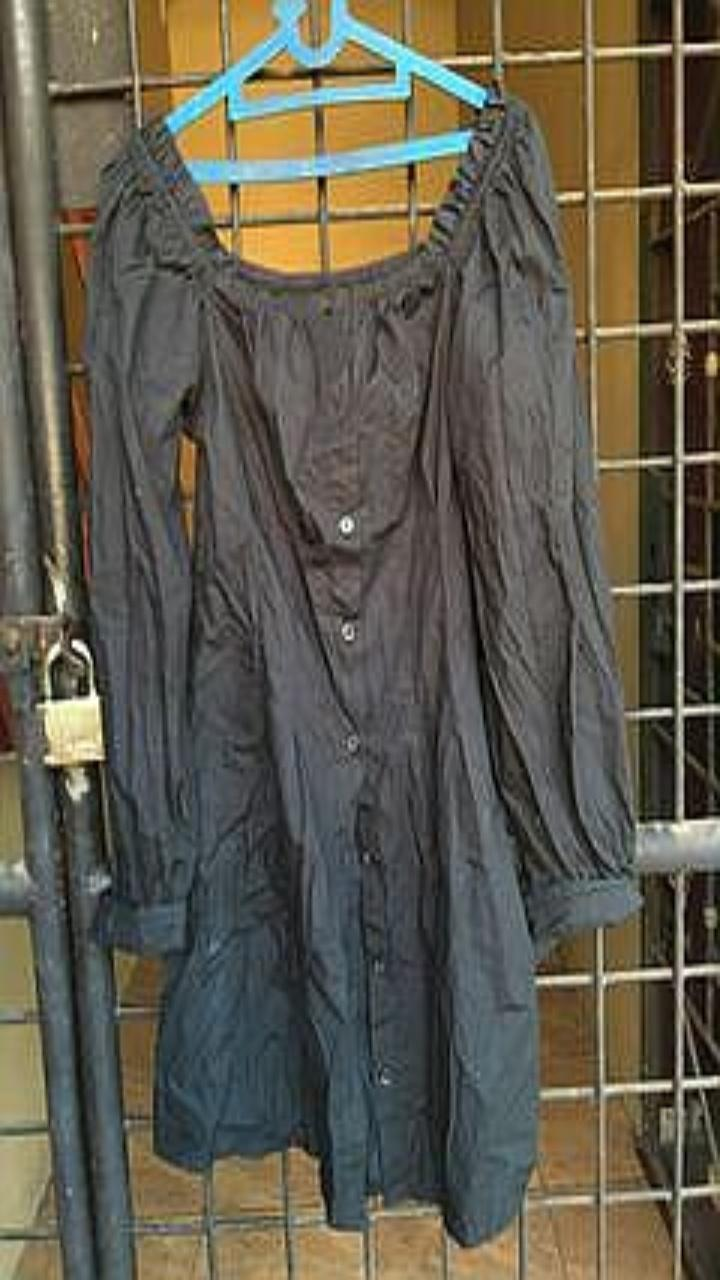T-Shirt: (85, 95, 641, 1245)
